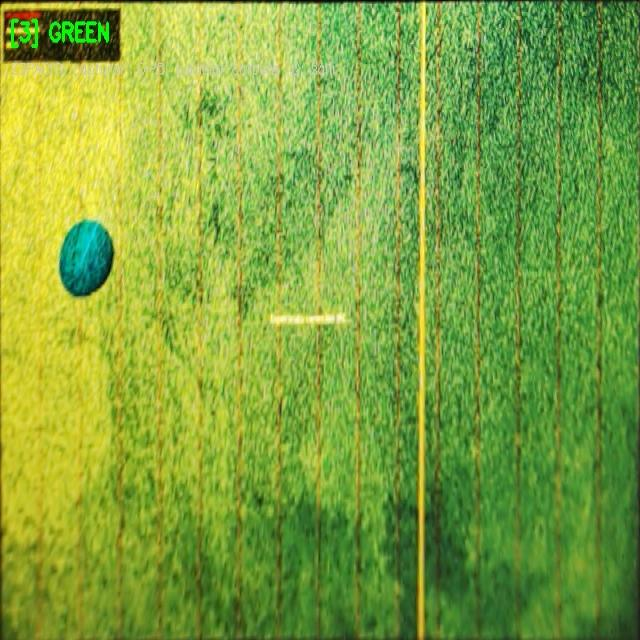green: (58, 215, 114, 298)
